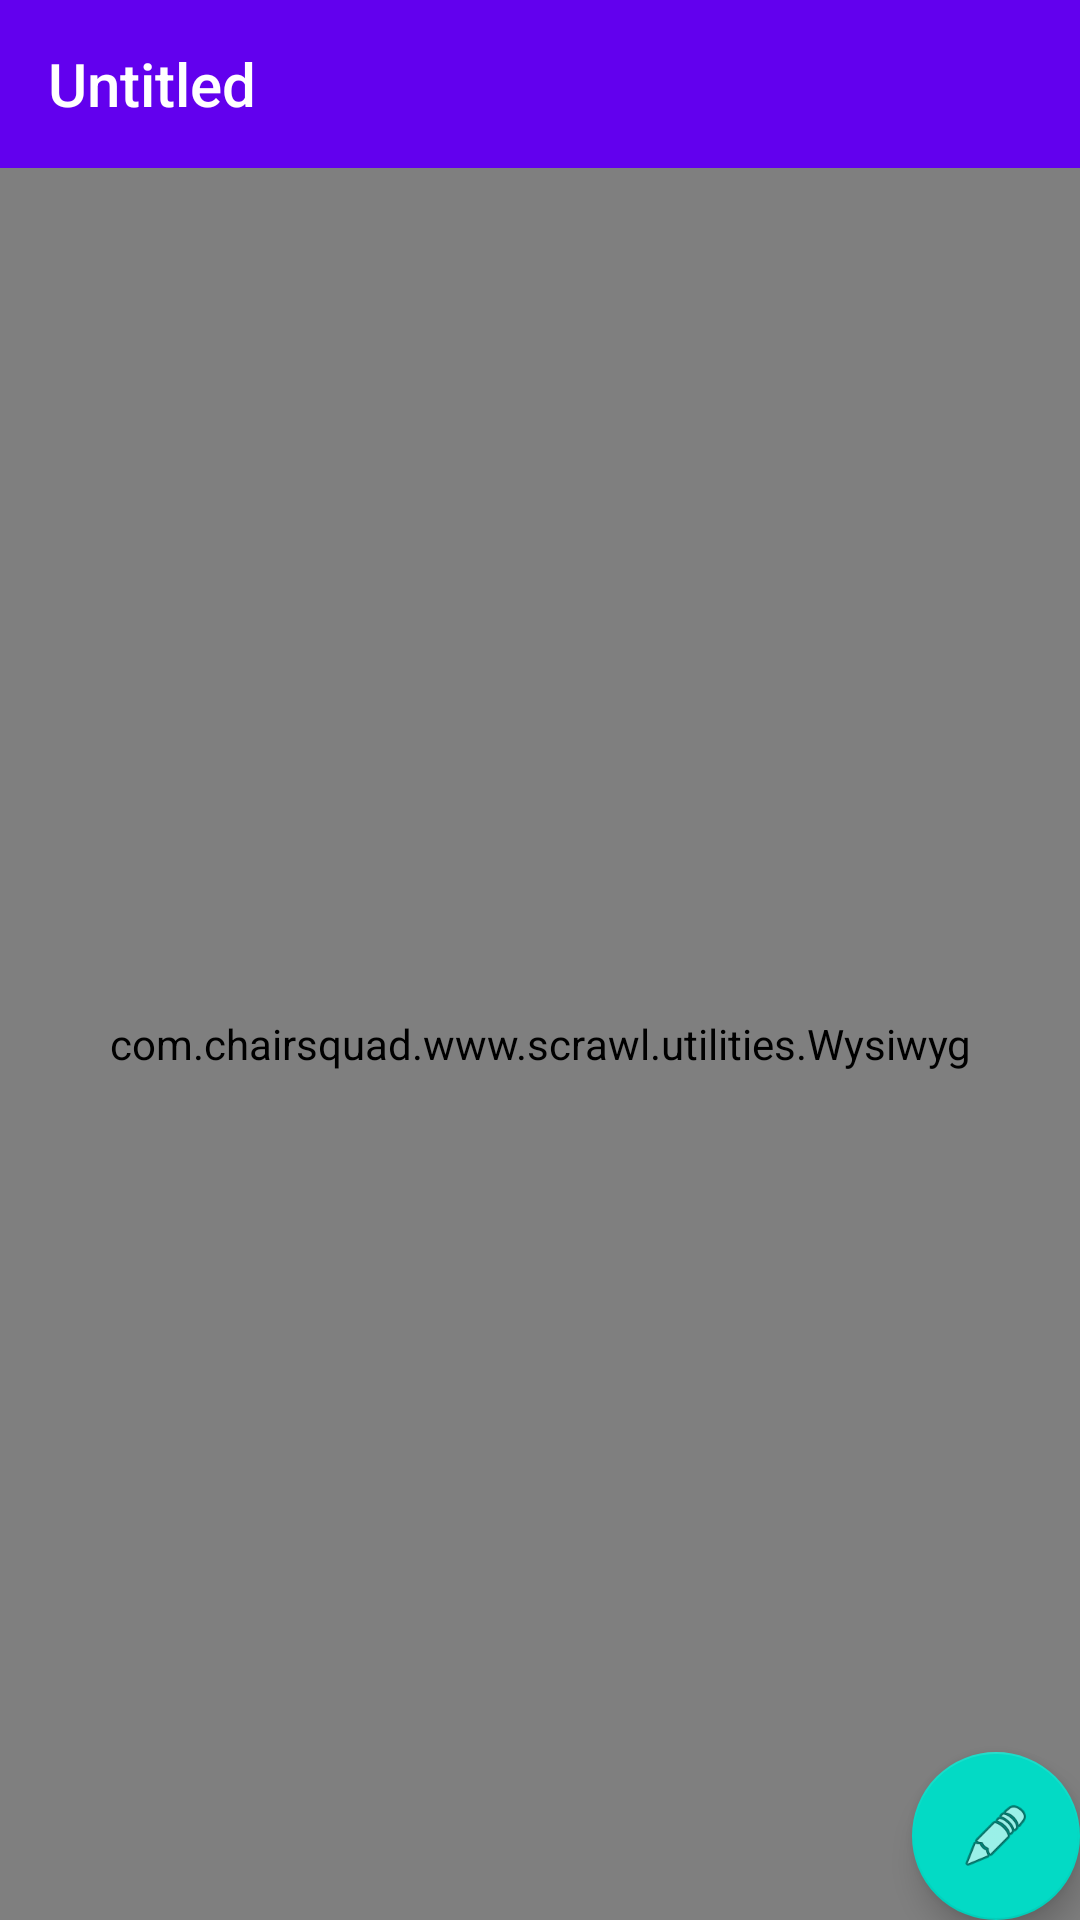

Named icons in this screenshot (1080px x 1920px) and their bounding boxes, (x1, y1, x2, y2):
edit: (912, 1752, 1080, 1920)
